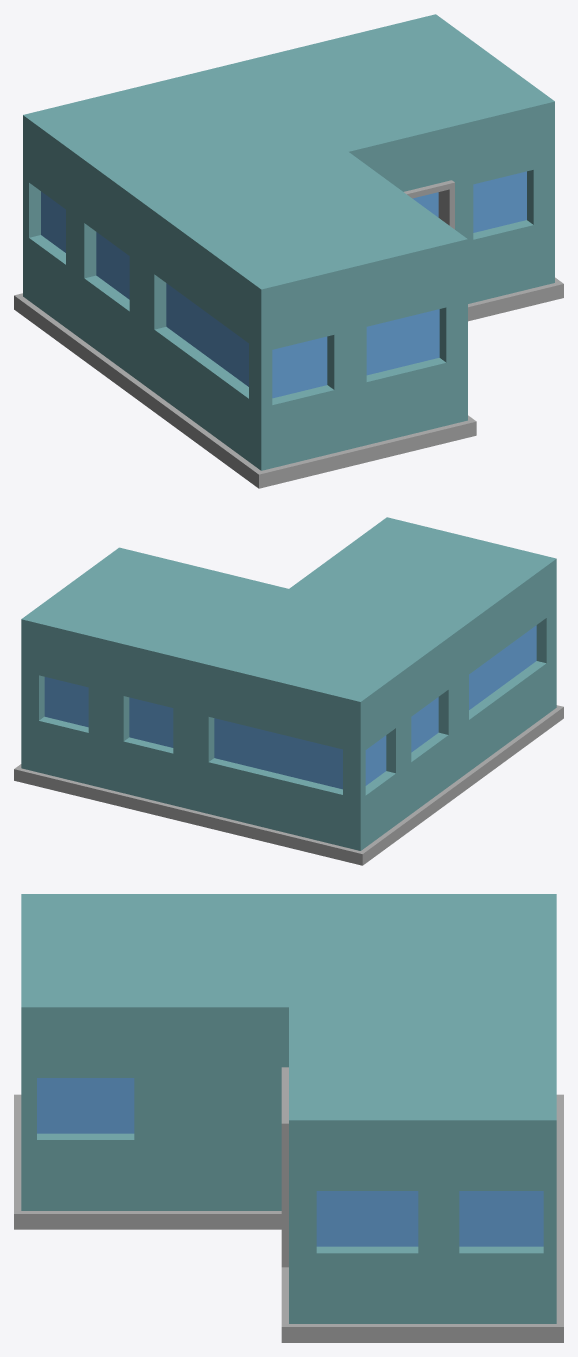
File: building_L_4_g.glb
The picture shows the model from 3 angles, top to bottom: view 1: azimuth 30°, elevation 25°; view 2: azimuth 150°, elevation 25°; view 3: azimuth 270°, elevation 25°; orthographic projection. The views are drawn at different scales.
Parts seen in each view (by area): view 1: Cube; view 2: Cube; view 3: Cube.
Boxes of the visible parts, box(x1,y1,x2,y2) form: Cube: box(14, 14, 563, 488); Cube: box(14, 517, 563, 865); Cube: box(14, 894, 563, 1342).
Size of the model in its own units: 3.63 by 1.6 by 3.63.
